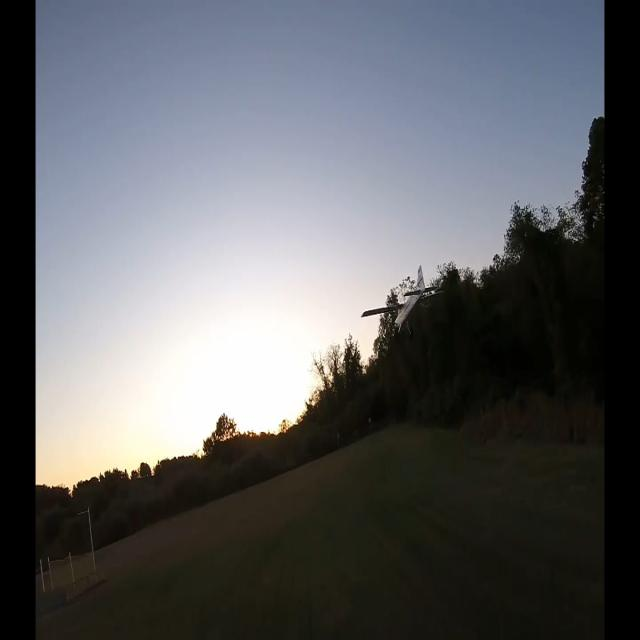iha: (392, 297, 414, 304)
